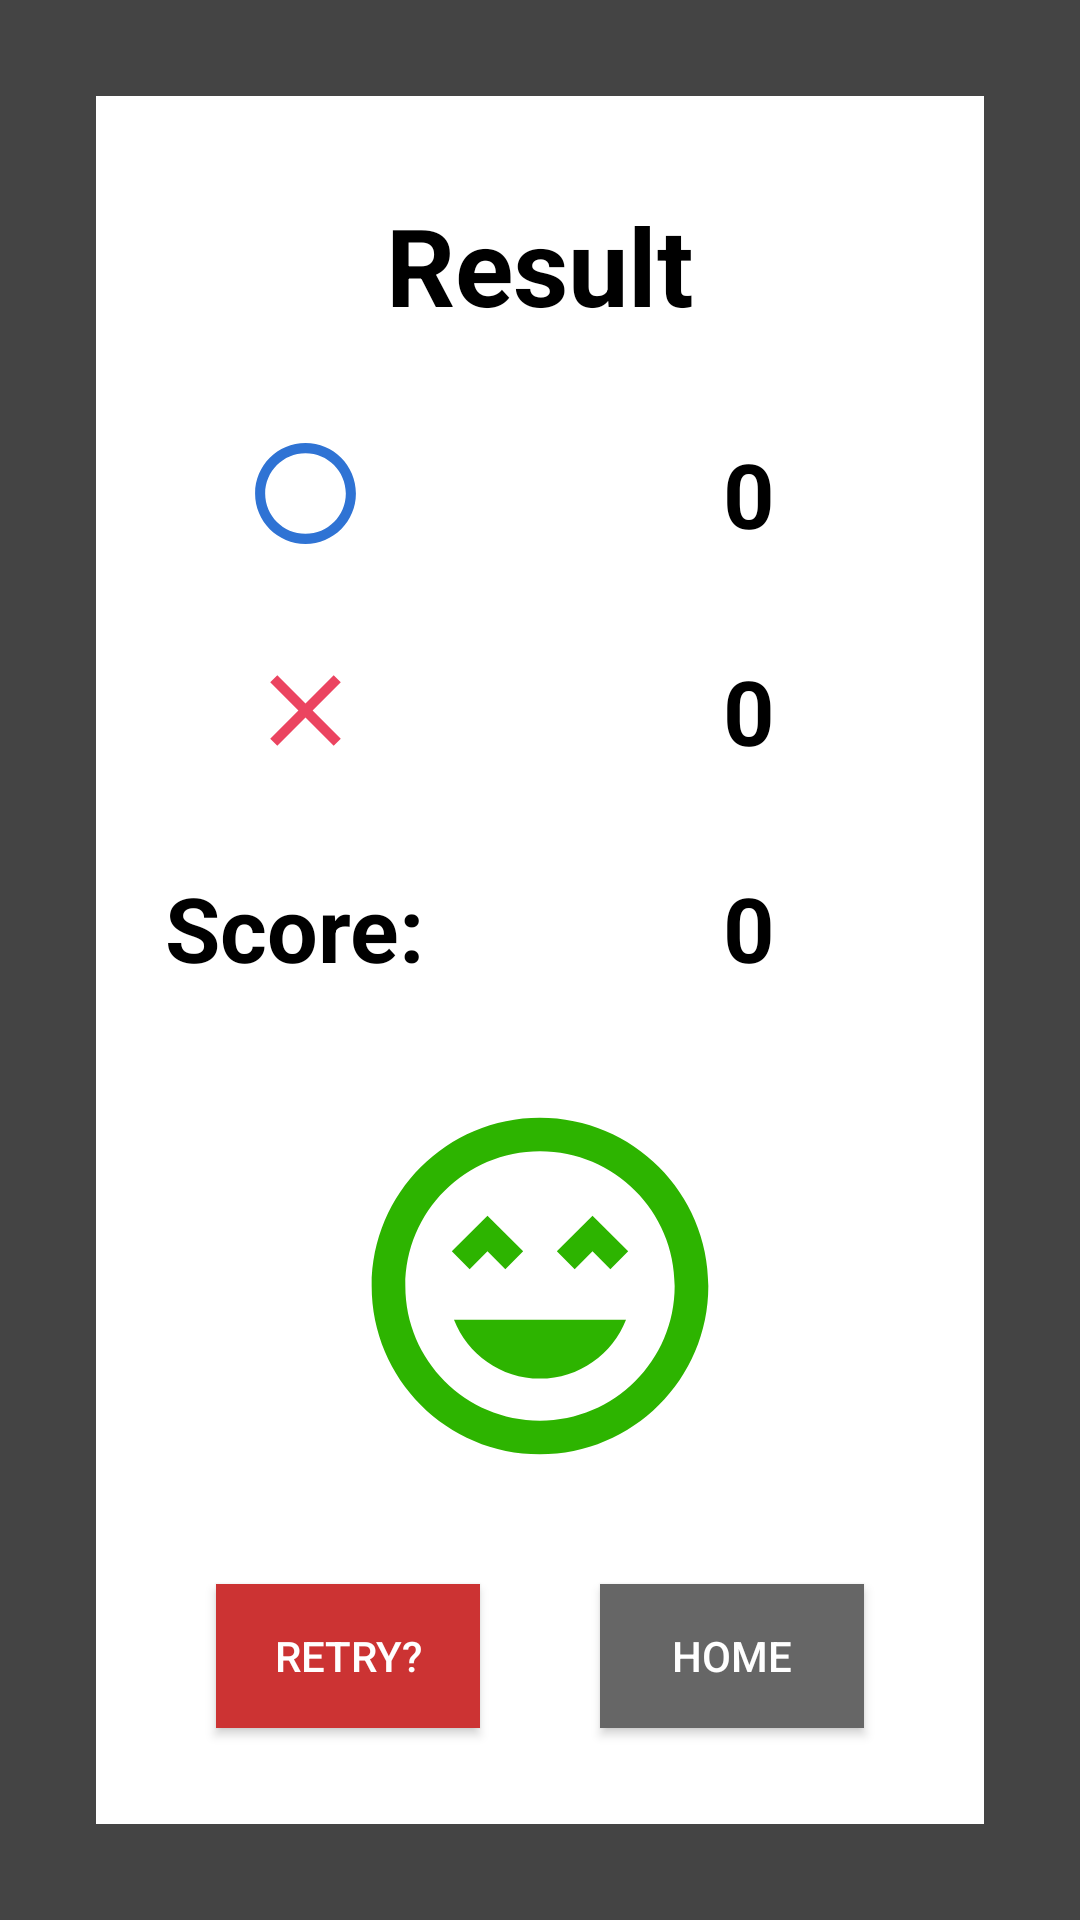

Where icons sit on this 1080x1920 app screen, as [left=x1, top=y1, right=x2, bottom=y2]:
result happy face: [left=371, top=1117, right=709, bottom=1455]
result wrong: [left=270, top=675, right=341, bottom=746]
